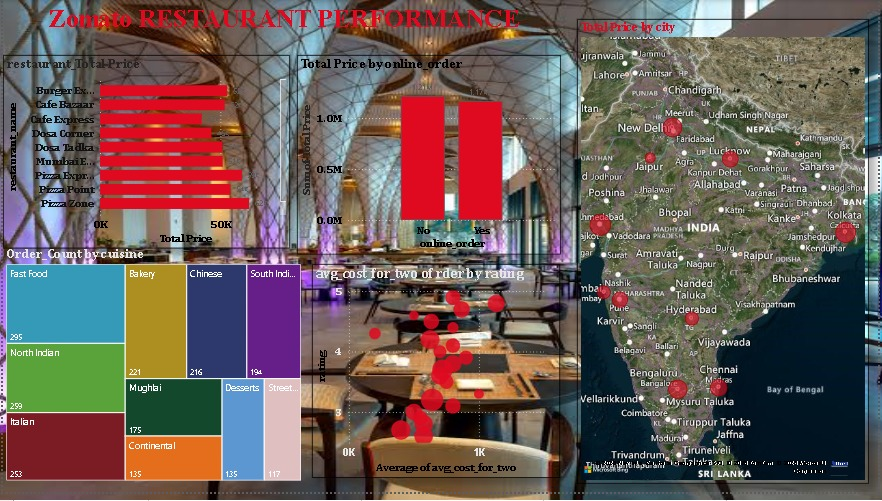

This screenshot's page, from the dashboard's own definition file:
{"tool":"powerbi","page":{"name":"Page 2","canvas":[1280,720],"ordinal":1},"visuals":[{"type":"textbox","box":[0,0,1267.3,55.6],"z":0},{"type":"clusteredBarChart","fields":{"Category":["zomato_restaurants.restaurant_name"],"Y":["Sum(zomato_orders_item.Total Price)"]},"box":[0,80.3,419.7,283.1],"z":1000},{"type":"treemap","fields":{"Group":["zomato_restaurants.cuisine"],"Values":["CountNonNull(zomato_orders.order_id)"]},"box":[0,360.6,440.8,347.9],"z":2000},{"type":"scatterChart","fields":{"X":["zomato_restaurants.avg_cost_for_two"],"Y":["zomato_restaurants.rating"],"Size":["CountNonNull(zomato_orders.order_id)"]},"box":[452.1,385.9,363.4,312.7],"z":3000},{"type":"clusteredColumnChart","fields":{"Category":["zomato_restaurants.online_order"],"Y":["Sum(zomato_orders_item.Total Price)"]},"box":[429.6,80.3,385.9,291.5],"z":4000},{"type":"map","fields":{"Category":["zomato_restaurants.city"],"Size":["Sum(zomato_orders_item.Total Price)"]},"box":[839.4,70.4,428.2,638],"z":5000}]}

Visuals, with their boxes in screenshot pixels (x1, y1, x2, y2), scaled from the page's 1280x720 canvas onto the 882x501 screenshot:
textbox: x1=0, y1=0, x2=873, y2=39
clusteredBarChart - zomato_restaurants.restaurant_name x Sum(zomato_orders_item.Total Price): x1=0, y1=56, x2=289, y2=253
treemap - zomato_restaurants.cuisine x CountNonNull(zomato_orders.order_id): x1=0, y1=251, x2=304, y2=493
scatterChart - zomato_restaurants.avg_cost_for_two x zomato_restaurants.rating: x1=312, y1=269, x2=562, y2=486
clusteredColumnChart - zomato_restaurants.online_order x Sum(zomato_orders_item.Total Price): x1=296, y1=56, x2=562, y2=259
map - zomato_restaurants.city x Sum(zomato_orders_item.Total Price): x1=578, y1=49, x2=873, y2=493
